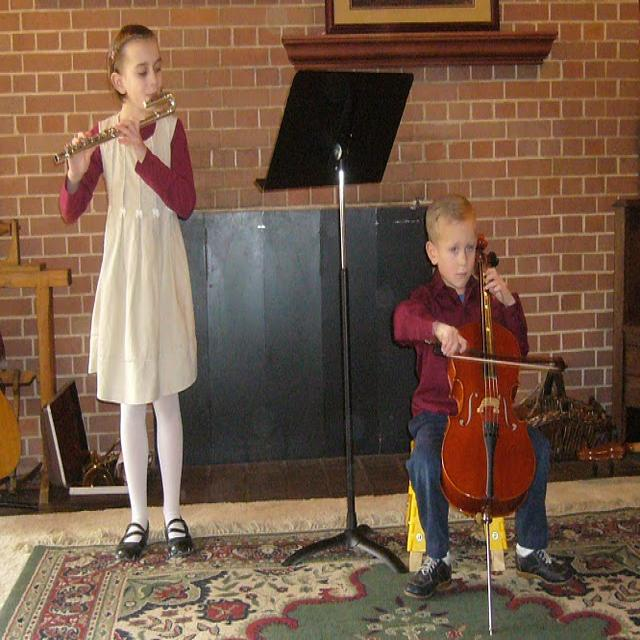cello: (436, 235, 538, 516)
